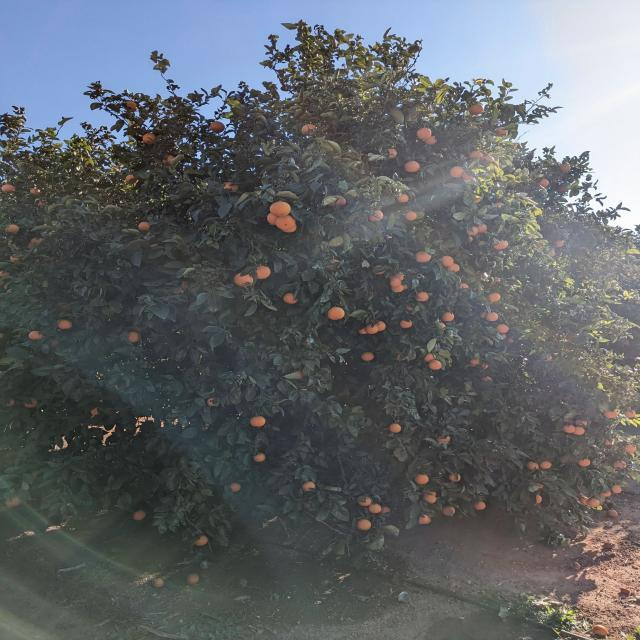Jeruk Sudah Matang: (270, 202, 292, 216), (327, 306, 345, 321), (234, 273, 253, 287), (276, 216, 296, 229), (416, 250, 432, 264), (404, 161, 421, 173), (256, 266, 270, 280), (210, 122, 225, 134), (368, 210, 383, 222), (416, 128, 431, 140), (368, 502, 382, 514), (283, 293, 298, 304), (250, 416, 265, 427), (356, 519, 371, 530), (28, 330, 44, 340), (414, 474, 430, 484), (440, 506, 456, 516), (418, 514, 431, 526), (471, 104, 484, 116), (450, 166, 463, 178), (142, 133, 156, 144), (302, 124, 316, 135), (132, 510, 146, 521), (332, 196, 346, 207), (224, 182, 239, 192), (357, 496, 372, 506), (128, 331, 140, 343), (266, 213, 279, 224), (328, 259, 341, 270), (58, 319, 72, 329), (161, 154, 175, 164), (388, 424, 402, 434), (360, 352, 374, 362), (493, 240, 507, 250), (23, 398, 38, 407), (196, 535, 208, 546), (441, 256, 453, 267), (302, 482, 315, 492), (423, 494, 436, 504), (366, 324, 379, 334), (441, 312, 454, 322), (482, 155, 495, 165), (485, 312, 498, 322), (2, 184, 16, 193), (428, 361, 442, 370), (424, 136, 438, 145), (126, 101, 137, 112), (436, 435, 451, 443), (474, 500, 486, 510), (376, 320, 386, 332), (400, 319, 412, 329), (416, 292, 428, 302), (388, 148, 398, 160), (466, 226, 478, 236), (125, 174, 138, 183), (372, 265, 385, 274), (489, 293, 502, 302), (496, 323, 509, 332), (282, 225, 298, 232), (572, 427, 586, 435), (496, 127, 507, 137), (538, 178, 549, 188), (208, 398, 220, 407), (253, 453, 265, 462), (390, 278, 402, 287), (579, 458, 591, 467), (603, 411, 618, 418), (527, 461, 540, 469), (406, 212, 416, 222), (139, 222, 150, 231), (425, 353, 436, 362), (564, 425, 575, 434), (391, 285, 405, 292), (449, 474, 461, 482), (448, 264, 460, 272), (588, 498, 600, 506), (610, 486, 622, 494), (606, 508, 618, 516), (5, 225, 18, 232), (613, 461, 626, 468), (230, 483, 240, 492), (380, 506, 390, 515), (470, 150, 480, 159), (478, 224, 488, 233), (463, 172, 474, 180), (560, 164, 571, 172), (625, 445, 636, 453), (541, 461, 552, 469), (624, 411, 636, 418), (90, 407, 100, 415), (398, 194, 408, 202), (470, 358, 480, 366), (534, 494, 542, 504), (578, 497, 588, 505), (600, 491, 612, 497), (5, 399, 15, 406), (554, 240, 564, 247), (0, 270, 11, 276), (458, 283, 469, 289), (32, 237, 42, 243), (10, 256, 20, 262), (439, 323, 447, 330), (31, 188, 40, 194), (358, 328, 366, 334)
